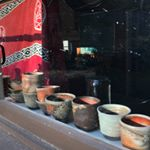cups: (96, 102, 131, 143), (42, 91, 76, 128), (70, 94, 101, 133), (118, 112, 150, 149)
